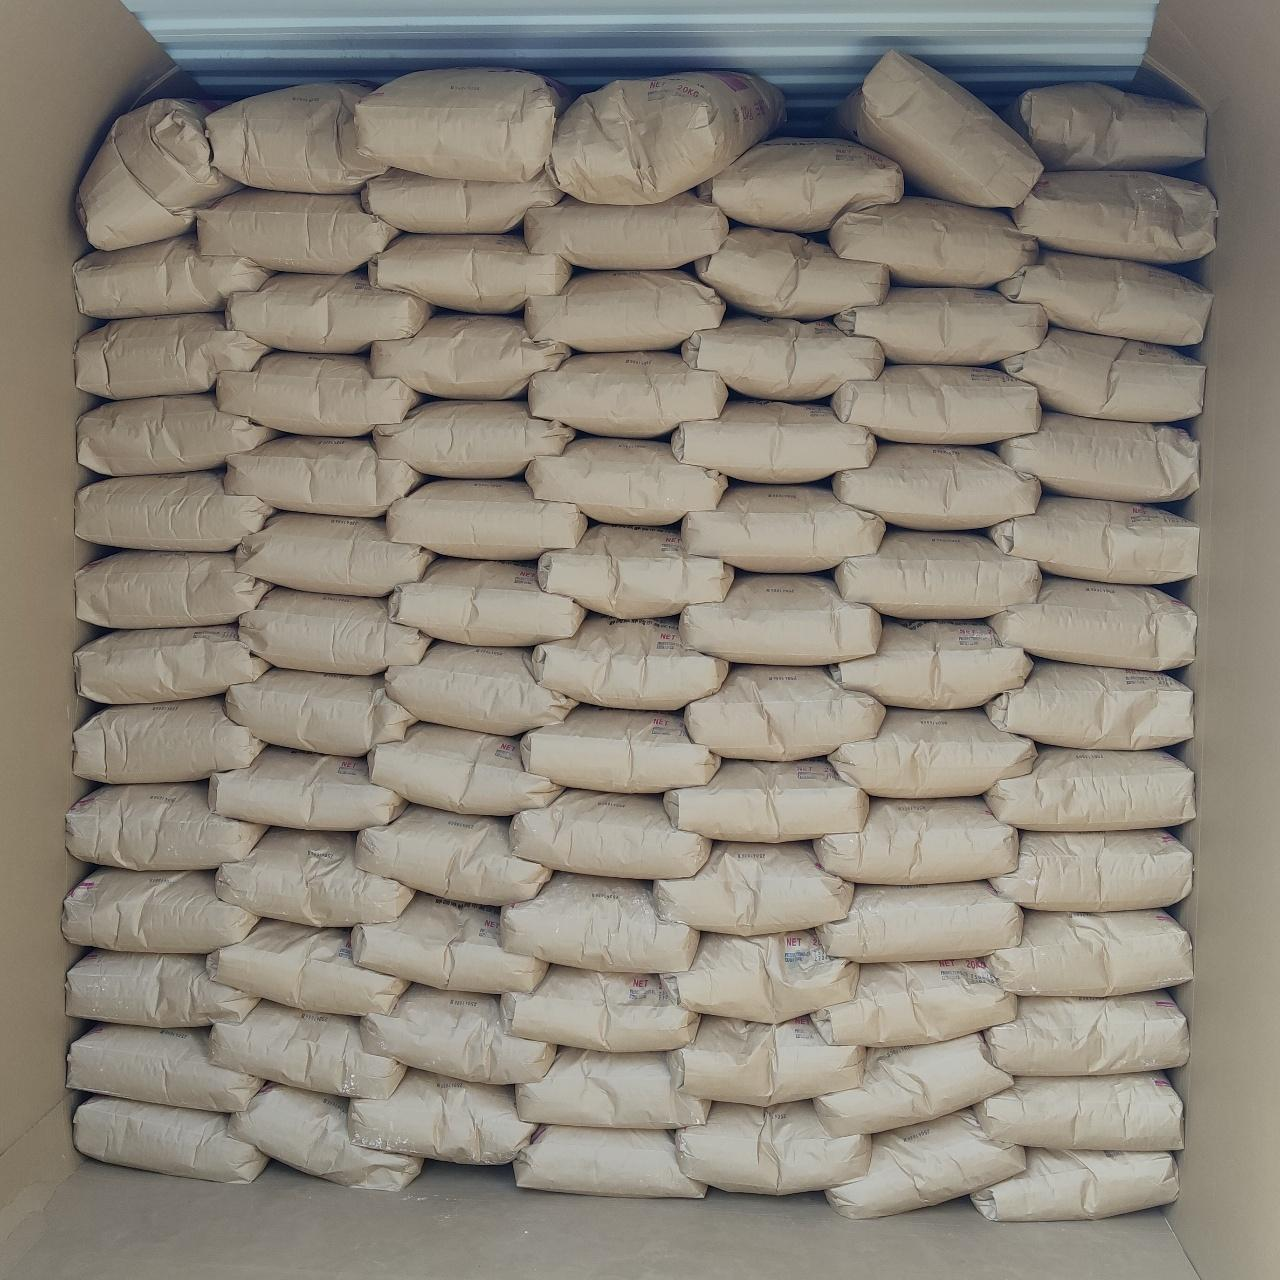sack: (835, 52, 1039, 206), (550, 72, 782, 202), (354, 68, 570, 181), (80, 100, 238, 246), (828, 1112, 1022, 1216), (230, 1085, 420, 1189), (816, 1034, 1012, 1133), (990, 576, 1194, 670), (207, 82, 386, 190), (1000, 252, 1210, 342), (502, 874, 696, 972), (697, 138, 903, 230), (1000, 328, 1204, 420), (207, 920, 406, 1014), (358, 806, 550, 903), (352, 894, 544, 990), (218, 830, 410, 926), (1010, 172, 1214, 263), (830, 198, 1039, 286), (362, 986, 552, 1082), (996, 411, 1198, 502), (686, 666, 881, 758), (656, 842, 852, 934), (990, 496, 1198, 583), (830, 708, 1034, 796), (210, 1002, 404, 1094), (682, 484, 884, 572), (540, 524, 731, 617), (532, 617, 726, 708), (692, 226, 886, 316), (986, 662, 1190, 748), (832, 620, 1030, 708), (998, 84, 1206, 168), (350, 1070, 535, 1164), (386, 642, 574, 734), (986, 912, 1190, 996), (512, 790, 708, 878), (682, 574, 878, 662), (986, 748, 1194, 830), (836, 530, 1039, 614), (526, 438, 726, 524), (666, 932, 855, 1022), (812, 960, 1014, 1044), (676, 1102, 870, 1190), (68, 782, 264, 869), (370, 724, 560, 813), (672, 399, 874, 482), (835, 444, 1039, 526), (522, 706, 719, 790), (668, 1016, 862, 1102), (530, 352, 726, 436), (210, 745, 406, 830), (390, 558, 583, 644), (68, 1024, 260, 1110), (986, 992, 1186, 1074), (372, 314, 566, 399), (682, 316, 881, 399), (76, 314, 270, 399), (218, 352, 420, 433), (816, 798, 1014, 880), (832, 366, 1039, 444), (76, 234, 270, 318), (526, 270, 724, 350), (226, 272, 430, 350), (836, 288, 1046, 365), (74, 697, 263, 782), (663, 760, 866, 838), (974, 1074, 1182, 1150), (992, 830, 1190, 910), (198, 190, 396, 270), (236, 515, 433, 594), (240, 588, 428, 672), (74, 1098, 264, 1180), (818, 881, 1022, 958), (502, 966, 696, 1046), (372, 400, 574, 476), (79, 394, 272, 474), (229, 436, 422, 516), (524, 192, 726, 268), (388, 481, 586, 558), (64, 870, 256, 949), (971, 1148, 1178, 1220), (76, 472, 270, 550), (370, 234, 570, 309), (518, 1048, 708, 1126), (229, 670, 414, 750), (76, 626, 268, 702), (76, 552, 270, 626), (68, 949, 254, 1026), (515, 1126, 706, 1196), (362, 170, 560, 230)
